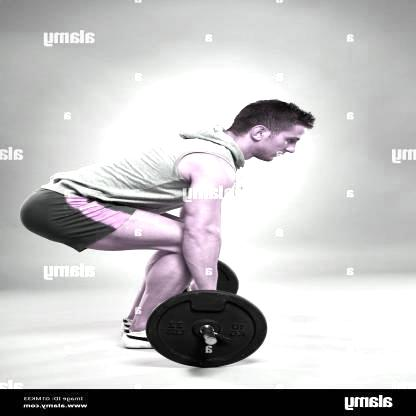Barbell: (191, 328, 231, 351)
